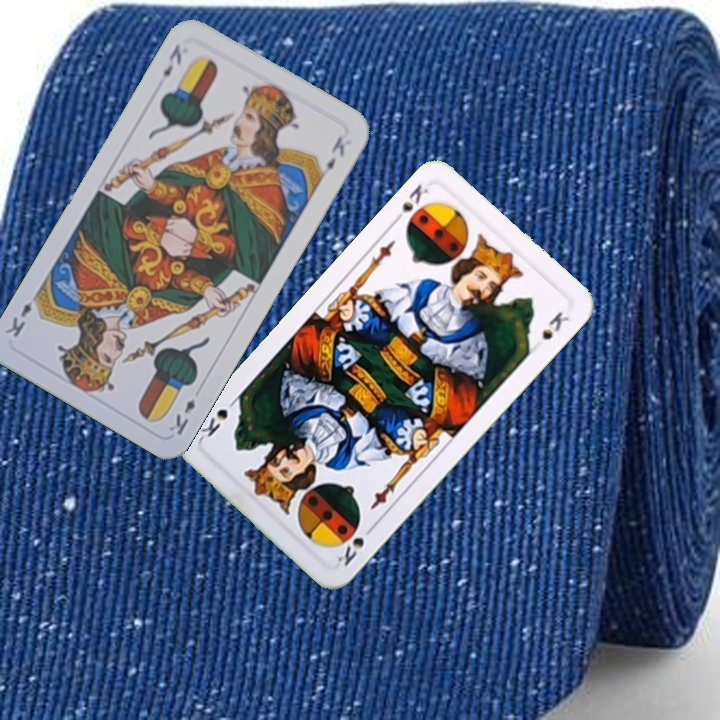EK: (164, 394, 198, 438), (158, 40, 185, 80)
SK: (333, 520, 378, 569), (388, 180, 431, 227)
